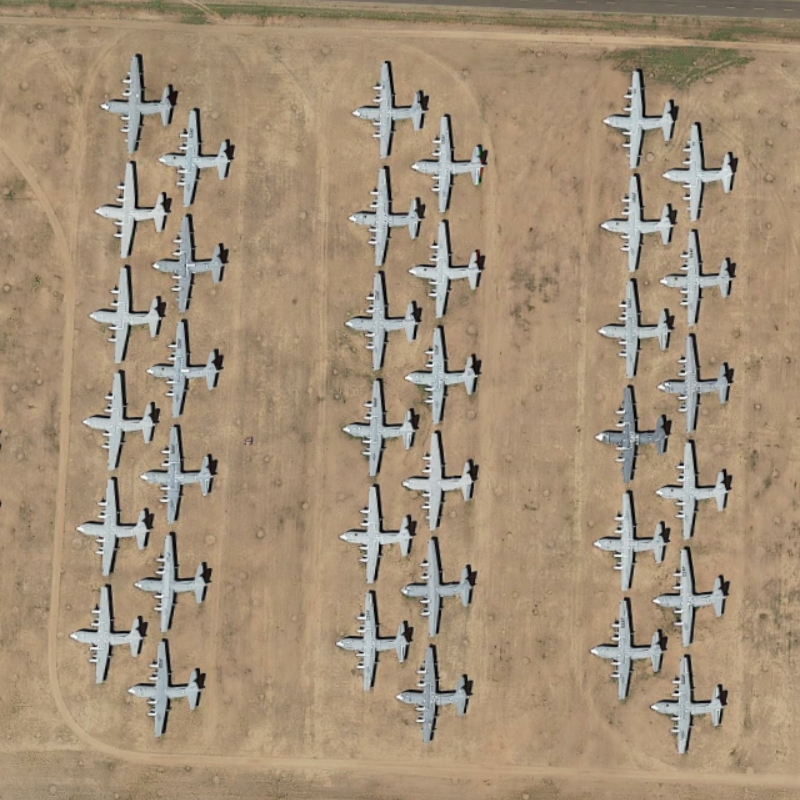A2: (153, 103, 253, 211), (96, 44, 189, 158), (581, 486, 676, 597), (396, 532, 489, 643), (587, 380, 684, 486), (131, 525, 222, 637), (400, 319, 498, 423), (587, 270, 677, 382), (338, 262, 425, 375), (396, 426, 492, 528), (144, 313, 232, 424), (87, 155, 173, 267), (331, 581, 417, 692), (126, 633, 216, 739), (655, 111, 740, 223), (392, 632, 476, 745), (655, 539, 740, 650), (74, 364, 159, 474), (137, 421, 224, 528), (341, 161, 427, 269), (652, 434, 740, 539), (350, 57, 436, 164), (648, 649, 731, 759), (409, 209, 488, 324), (77, 259, 162, 365), (68, 580, 153, 686), (659, 332, 748, 433), (599, 168, 683, 274), (604, 57, 681, 172), (408, 107, 493, 211), (340, 367, 418, 480), (70, 475, 155, 578), (657, 223, 740, 328), (341, 477, 420, 587), (591, 597, 666, 706), (153, 208, 229, 313)
